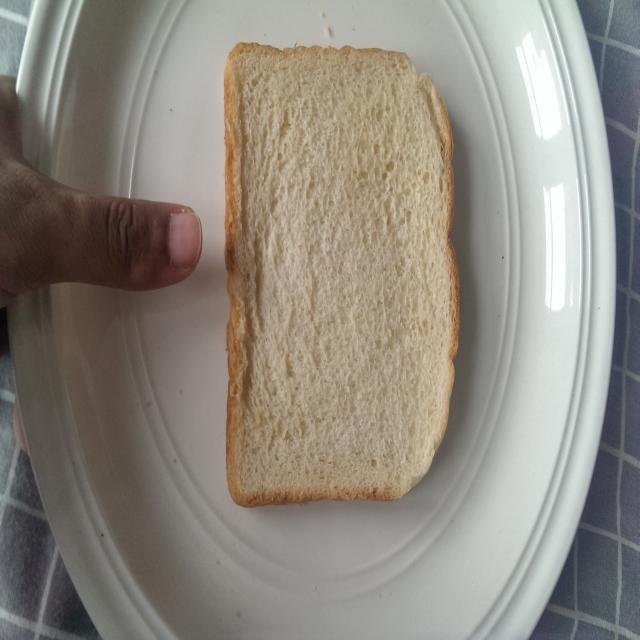Bread: (212, 28, 468, 518)
Finger: (95, 186, 207, 298)
